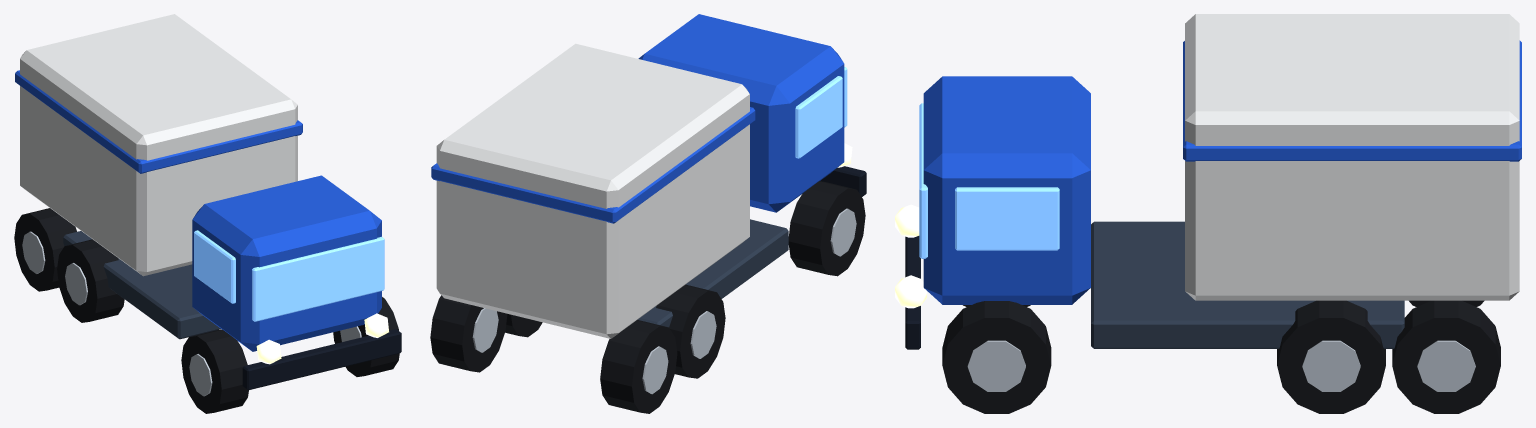
Rendered from truck.glb.
The picture shows the model from 3 angles, left to right: view 1: azimuth 30°, elevation 25°; view 2: azimuth 150°, elevation 25°; view 3: azimuth 270°, elevation 25°; orthographic projection. The views are drawn at different scales.
Visible parts, largest first — view 1: g_m_f8fafc, g_m_2563eb, g_m_16181d, g_m_93c5fd_e, g_m_334155, g_m_111827, g_m_cbd5e1, g_m_fff7cc_e; view 2: g_m_f8fafc, g_m_2563eb, g_m_16181d, g_m_334155, g_m_cbd5e1, g_m_93c5fd_e, g_m_111827; view 3: g_m_f8fafc, g_m_2563eb, g_m_16181d, g_m_334155, g_m_93c5fd_e, g_m_cbd5e1, g_m_fff7cc_e, g_m_111827.
Boxes of the visible parts, x1,y1,x2,y2 form: g_m_f8fafc: (20, 14, 297, 276); g_m_2563eb: (15, 70, 381, 351); g_m_16181d: (14, 208, 399, 413); g_m_93c5fd_e: (194, 230, 384, 321); g_m_334155: (63, 231, 221, 339); g_m_111827: (242, 329, 401, 390); g_m_cbd5e1: (22, 231, 361, 396); g_m_fff7cc_e: (256, 313, 388, 364); g_m_f8fafc: (436, 43, 749, 338); g_m_2563eb: (431, 14, 844, 223); g_m_16181d: (430, 181, 865, 413); g_m_334155: (637, 219, 788, 327); g_m_cbd5e1: (472, 208, 856, 394); g_m_93c5fd_e: (795, 67, 847, 158); g_m_111827: (820, 166, 866, 196); g_m_f8fafc: (1185, 14, 1519, 300); g_m_2563eb: (923, 40, 1521, 304); g_m_16181d: (942, 300, 1500, 413); g_m_334155: (1091, 221, 1404, 348); g_m_93c5fd_e: (919, 103, 1059, 258); g_m_cbd5e1: (967, 340, 1475, 391); g_m_fff7cc_e: (895, 204, 926, 308); g_m_111827: (905, 236, 920, 349).
Bounding box in the file's own units: 2.7 × 3.09 × 5.99.
